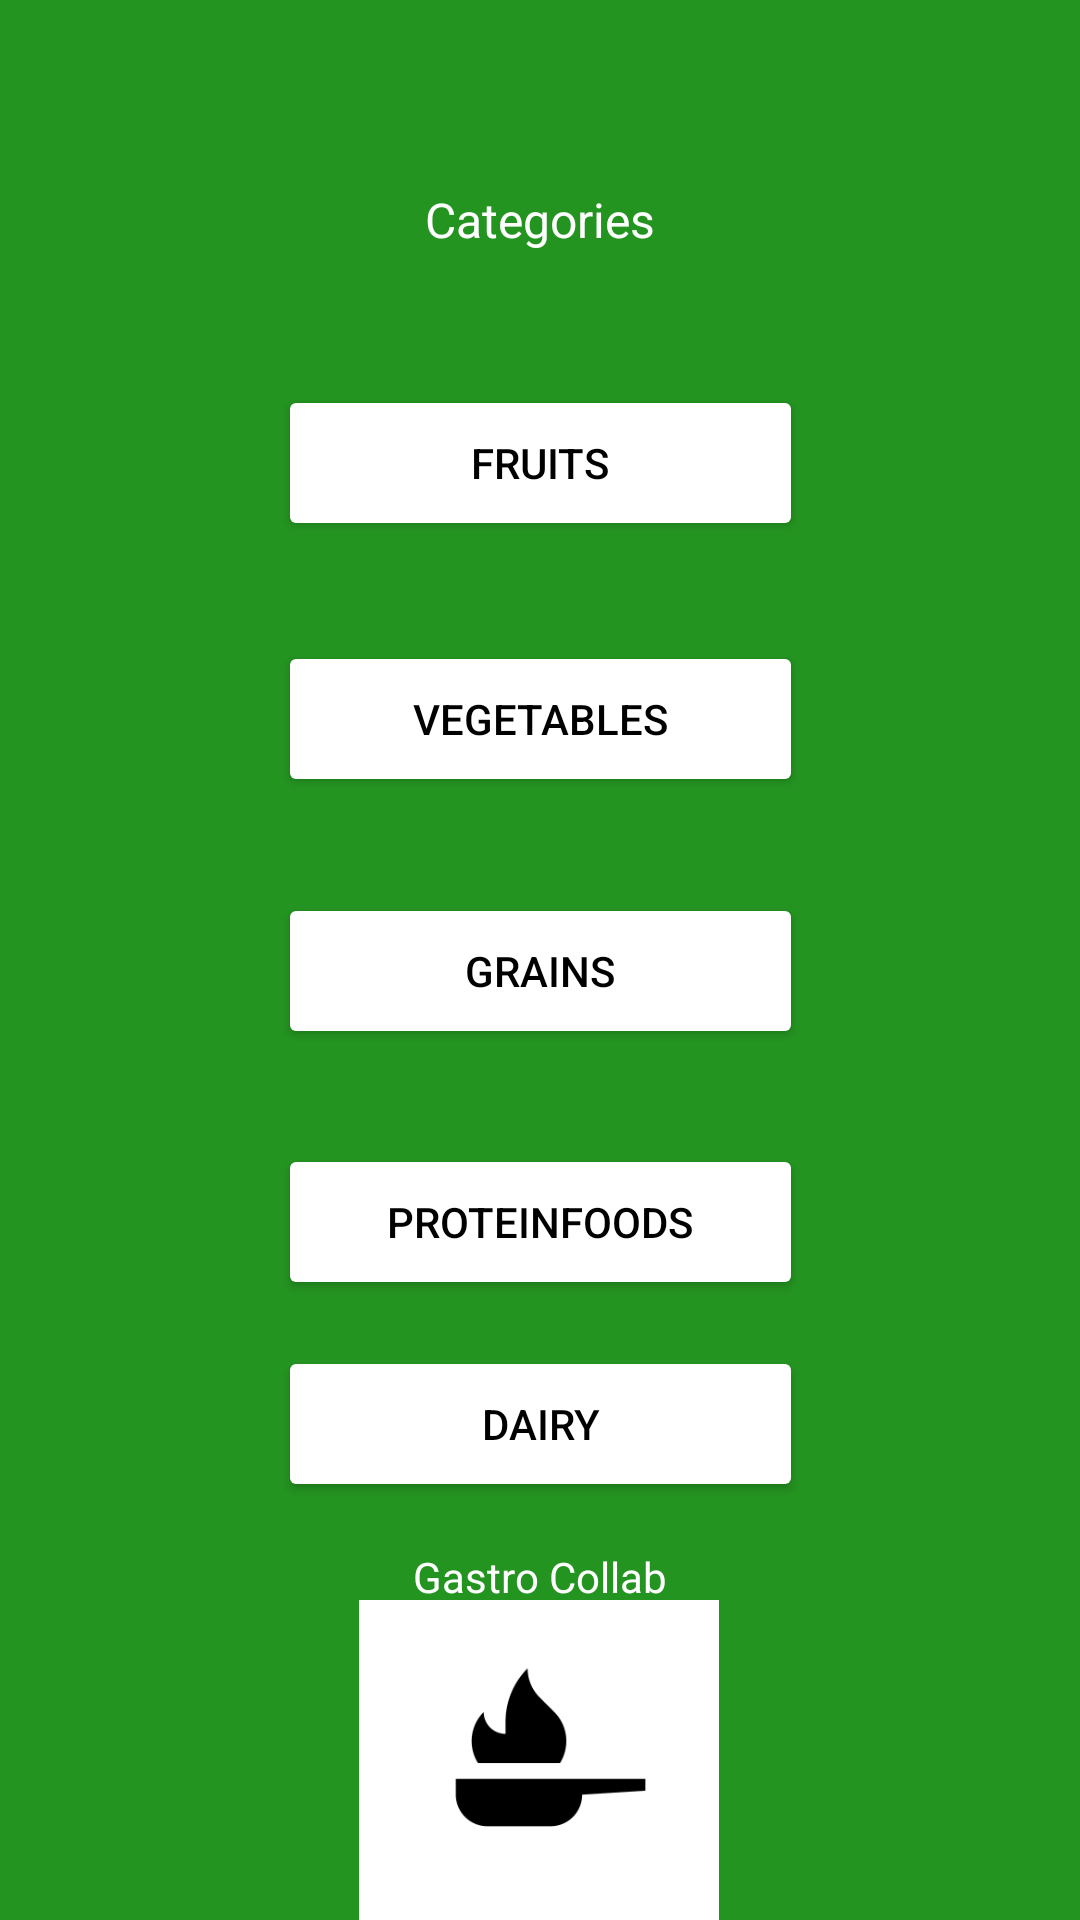

Icon click points for this 1080 x 1920 phone screenshot, format (x=x, y=y):
pan: (x=539, y=1760)
